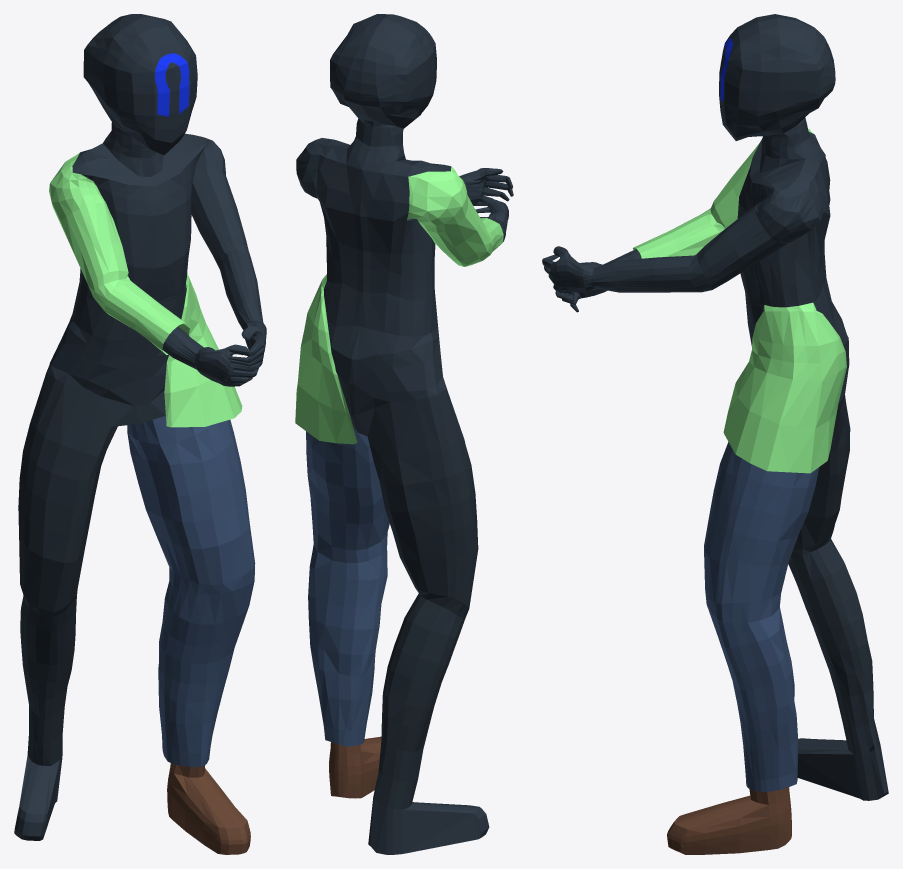
Rendered from Mar_WF_000014.obj.
3 views of the same model, side by side, from view 1: azimuth 30°, elevation 25°; view 2: azimuth 150°, elevation 25°; view 3: azimuth 270°, elevation 25° (orthographic). The views are drawn at different scales.
Parts seen in each view (by area): view 1: Cube.000_Cube.001; view 2: Cube.000_Cube.001; view 3: Cube.000_Cube.001.
Boxes of the visible parts, box(x1,y1,x2,y2) form: Cube.000_Cube.001: box(14, 14, 266, 854); Cube.000_Cube.001: box(295, 14, 513, 854); Cube.000_Cube.001: box(542, 14, 888, 854).
Bounding box in the file's own units: 1.05 × 3.9 × 1.52.
